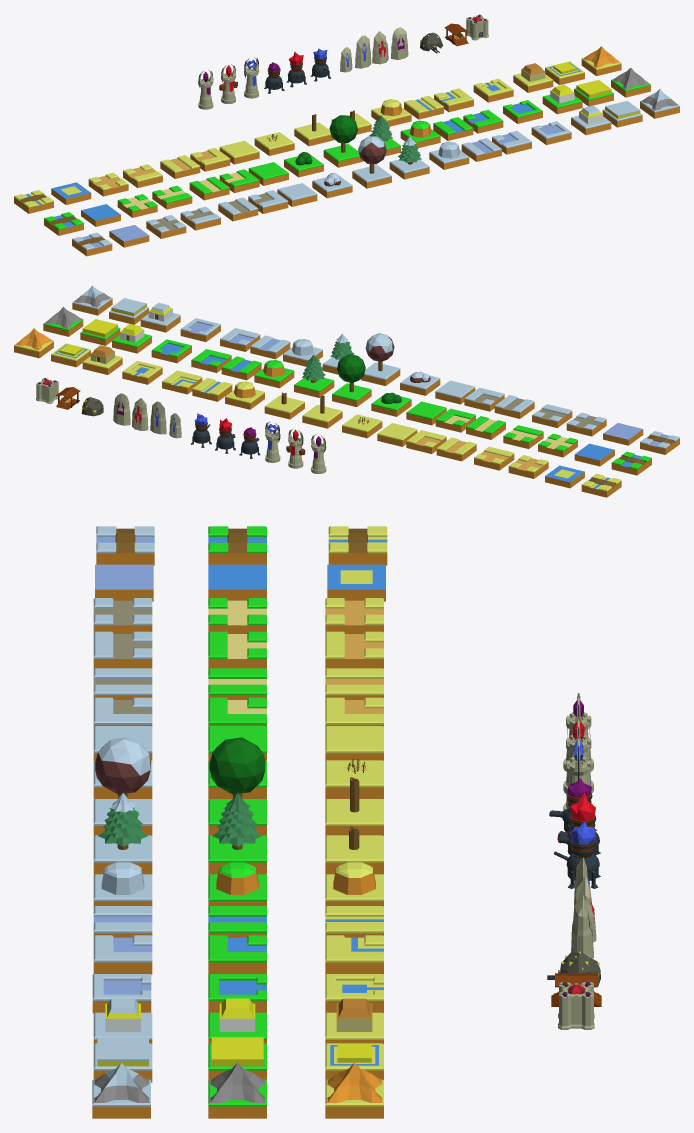
The model's file is tiles_pack_megaupg.fbx.
The picture shows the model from 3 angles, top to bottom: view 1: azimuth 30°, elevation 25°; view 2: azimuth 150°, elevation 25°; view 3: azimuth 270°, elevation 25°; orthographic projection. The views are drawn at different scales.
Parts seen in each view (by area): view 1: Oak_winter, Oak_standart, Pine_winter, House_desert, House_standart, House_winter, Hill_winter, Fields_winter, Fields_standart, Mountain_desert, Mountain_winter, Mountain_standart (+49 smaller); view 2: Oak_standart, Oak_winter, Pine_standart, House_winter, House_desert, House_standart, Hill_standart, Hill_desert, Fields_standart, Fields_winter, Mountain_standart, Mountain_winter (+51 smaller); view 3: Oak_winter, Oak_standart, Pine_winter, Pine_standart, Mountain_standart, Mountain_desert, Mountain_winter, House_desert, Hill_winter, Oak_desert, Bridge_desert, Hill_standart (+41 smaller).
Part boxes in pixels (x1,y1,x2,y2): Oak_winter: [352, 136, 391, 188]; Oak_standart: [323, 115, 363, 167]; Pine_winter: [389, 136, 429, 179]; House_desert: [513, 63, 553, 92]; House_standart: [542, 84, 582, 114]; House_winter: [571, 105, 611, 135]; Hill_winter: [429, 141, 469, 169]; Fields_winter: [602, 100, 642, 127]; Fields_standart: [574, 80, 613, 106]; Mountain_desert: [581, 46, 621, 76]; Mountain_winter: [640, 89, 679, 118]; Mountain_standart: [611, 68, 650, 97]; Oak_standart: [332, 354, 371, 406]; Oak_winter: [360, 333, 400, 385]; Pine_standart: [294, 354, 334, 397]; House_winter: [140, 302, 180, 332]; House_desert: [82, 345, 122, 374]; House_standart: [112, 324, 151, 353]; Hill_standart: [254, 360, 294, 388]; Hill_desert: [225, 381, 264, 409]; Fields_standart: [80, 319, 120, 345]; Fields_winter: [109, 298, 148, 324]; Mountain_standart: [43, 306, 83, 336]; Mountain_winter: [72, 285, 112, 315]; Oak_winter: [93, 737, 152, 835]; Oak_standart: [208, 737, 266, 835]; Pine_winter: [93, 793, 152, 874]; Pine_standart: [208, 793, 266, 874]; Mountain_standart: [208, 1062, 266, 1118]; Mountain_desert: [325, 1062, 383, 1118]; Mountain_winter: [92, 1062, 150, 1118]; House_desert: [325, 998, 383, 1043]; Hill_winter: [93, 861, 152, 906]; Oak_desert: [325, 777, 383, 835]; Bridge_desert: [328, 526, 387, 565]; Hill_standart: [208, 861, 266, 906].
Size of the model in its own units: 21000 by 1467 by 7820.
